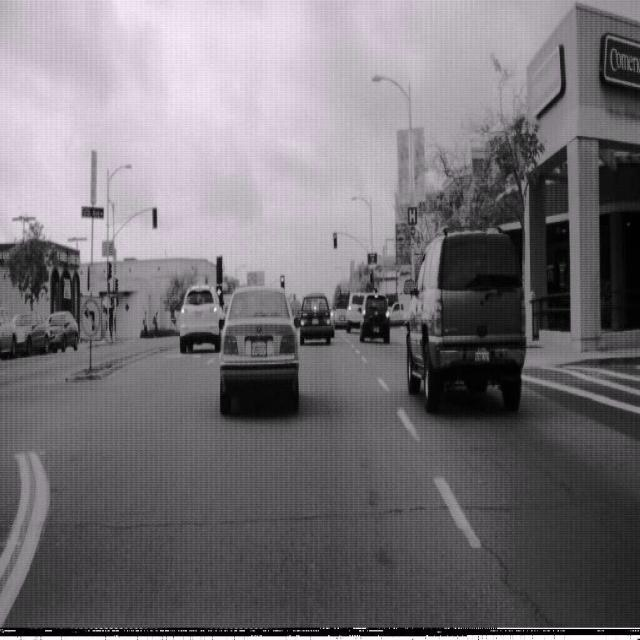noLeftTurn: (79, 293, 102, 340)
